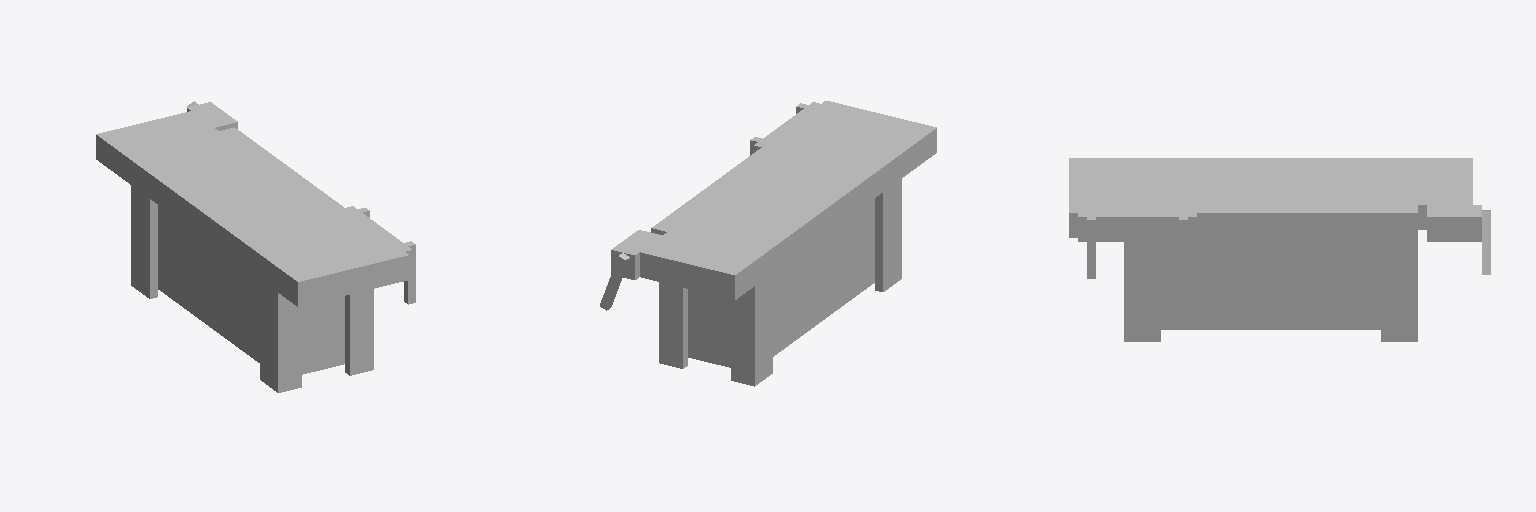
Rendered from polycrafting_table.obj.
3 renders of one model, left to right at view 1: azimuth 30°, elevation 25°; view 2: azimuth 150°, elevation 25°; view 3: azimuth 270°, elevation 25°, orthographic.
Visible parts, largest first — view 1: Crafting_Table_Tri_Cube.001; view 2: Crafting_Table_Tri_Cube.001; view 3: Crafting_Table_Tri_Cube.001.
Boxes of the visible parts, x1,y1,x2,y2 form: Crafting_Table_Tri_Cube.001: [96, 101, 415, 392]; Crafting_Table_Tri_Cube.001: [600, 101, 936, 386]; Crafting_Table_Tri_Cube.001: [1069, 158, 1490, 341].
Size of the model in its own units: 1 by 1 by 2.88.